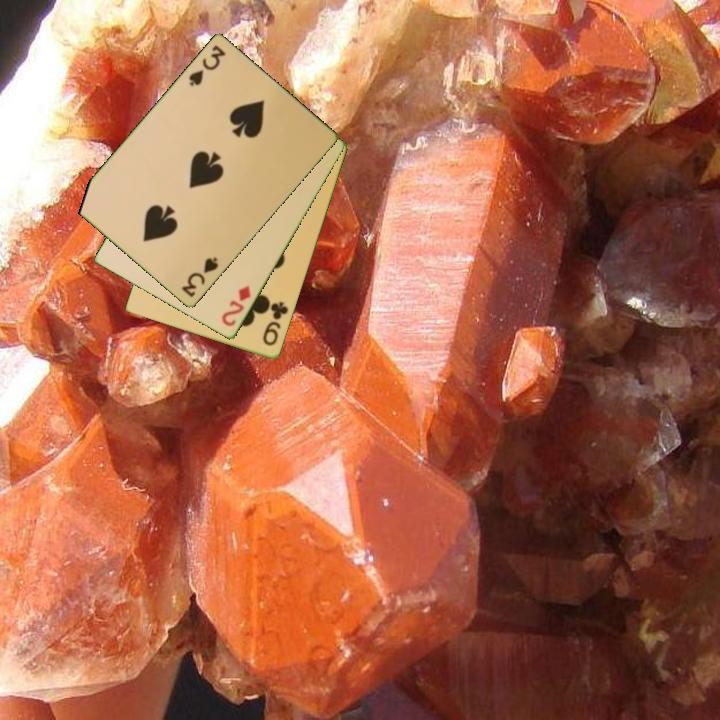2d: (218, 282, 254, 330)
3s: (185, 42, 229, 90), (178, 254, 221, 301)
9c: (259, 298, 291, 349)
